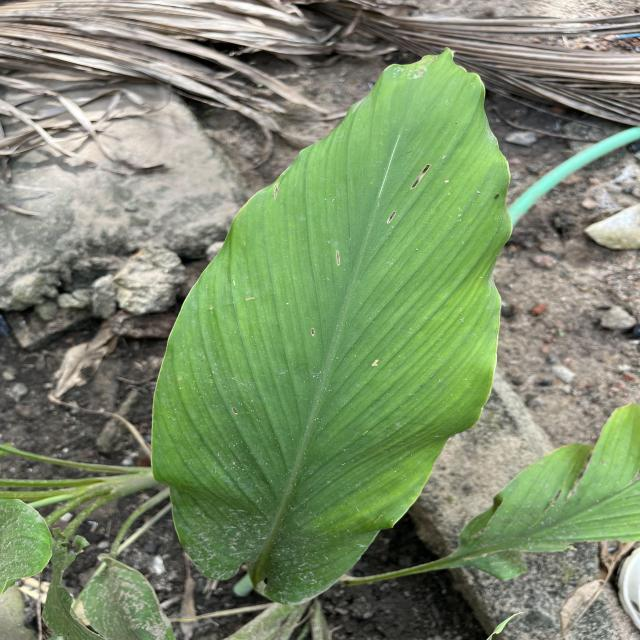Curcuma longa: (148, 46, 514, 608)
